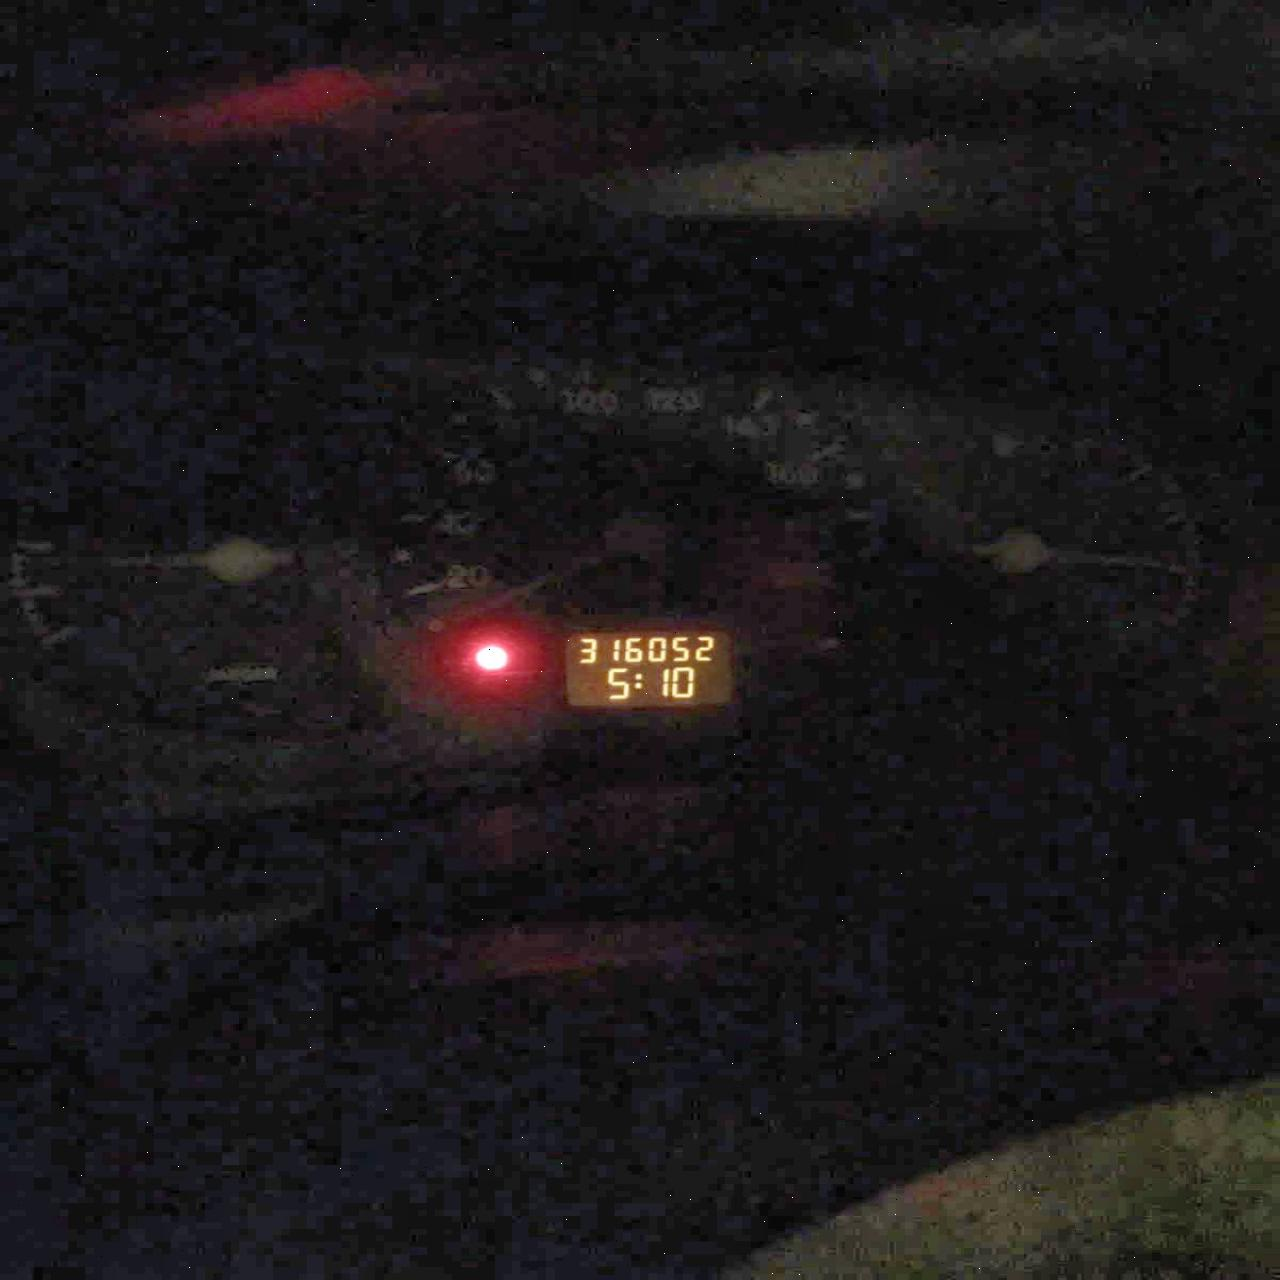0: (670, 666, 694, 698), (646, 636, 666, 662)
1: (660, 667, 669, 698), (611, 638, 620, 661)
2: (693, 635, 714, 661)
3: (578, 638, 596, 663)
5: (606, 667, 629, 699), (670, 636, 689, 661)
6: (623, 637, 642, 662)
X: (633, 672, 642, 690)
odometer: (563, 630, 734, 707)
